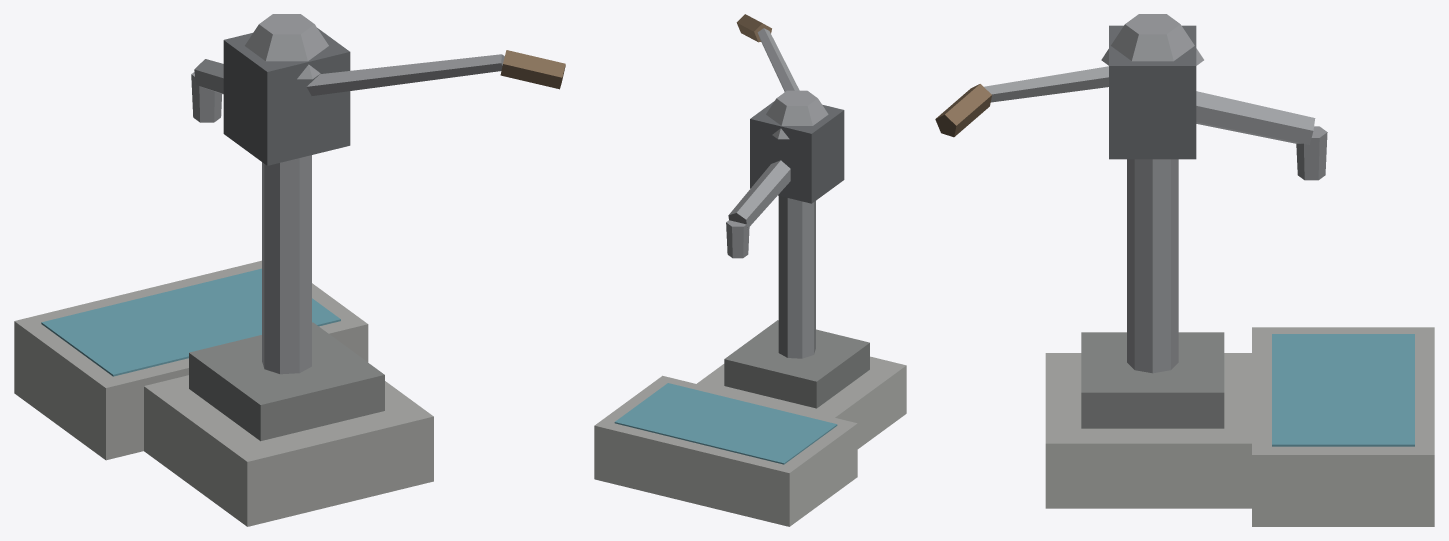
The model's file is water_pump.glb.
3 renders of one model, left to right at view 1: azimuth 30°, elevation 25°; view 2: azimuth 150°, elevation 25°; view 3: azimuth 270°, elevation 25°, orthographic. The views are drawn at different scales.
Visible parts, largest first — view 1: water_pump; view 2: water_pump; view 3: water_pump.
Boxes of the visible parts, x1=… form: water_pump: x1=14, y1=14, x2=565, y2=526; water_pump: x1=594, y1=14, x2=906, y2=526; water_pump: x1=935, y1=14, x2=1434, y2=526.
Size of the model in its own units: 0.9017 by 1.23 by 1.26.
